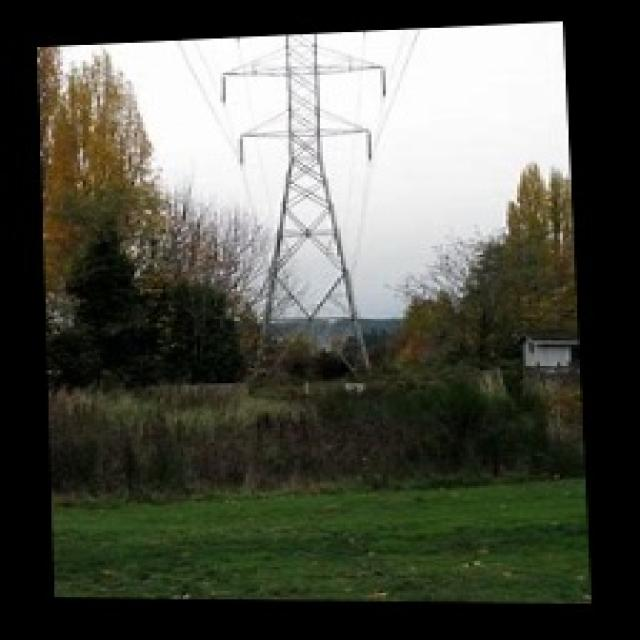utility poles: (182, 245, 305, 376), (316, 289, 464, 388)
